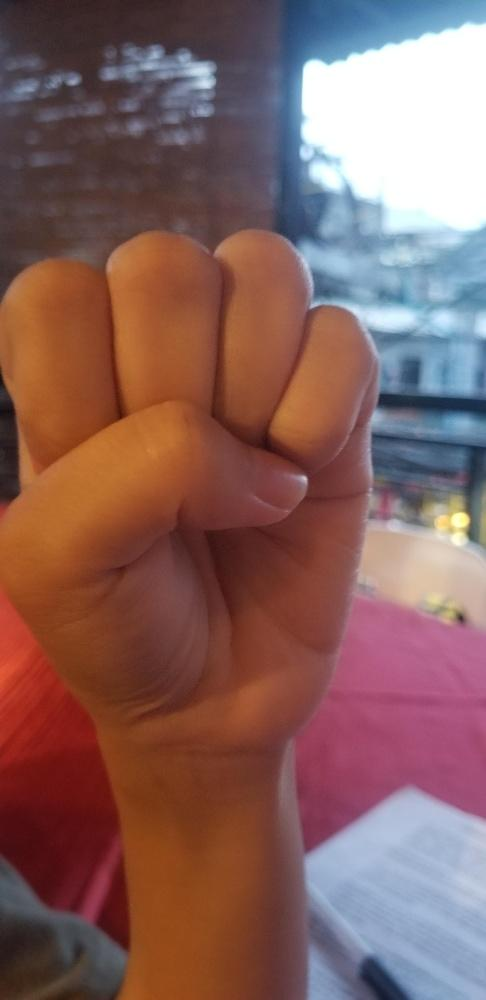s: (0, 228, 380, 739)
